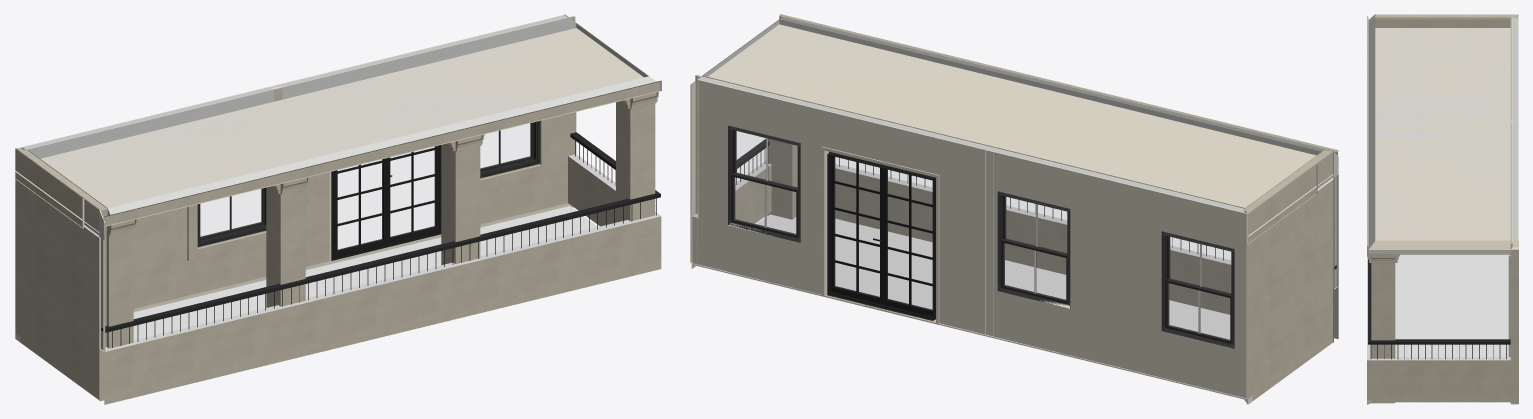
The model's file is front-balcony-54dfe916970c.glb.
The picture shows the model from 3 angles, left to right: view 1: azimuth 30°, elevation 25°; view 2: azimuth 150°, elevation 25°; view 3: azimuth 270°, elevation 25°; orthographic projection. The views are drawn at different scales.
Visible parts, largest first — view 1: front-balcony-0ac23dde8d2f7c54, front-balcony-b39baa29700ae605, front-balcony-f6a7cfeba332478b, front-balcony-62353aa10fc57f23, front-balcony-b0ade14315e4f1c3, front-balcony-dbd60ee5c3733ed6, front-balcony-24022e0f0167e9d7, front-balcony-42fce09358828e49, front-balcony-d70d42a253f78e60, front-balcony-771be2dfa886178e, front-balcony-41597b955207c1bc, front-balcony-f0f007964d256d2c (+9 smaller); view 2: front-balcony-b0ade14315e4f1c3, front-balcony-0ac23dde8d2f7c54, front-balcony-62353aa10fc57f23, front-balcony-b39baa29700ae605, front-balcony-dbd60ee5c3733ed6, front-balcony-60f0db96f832035a, front-balcony-b5cb73c07919def8, front-balcony-e1735639a83d20d7, front-balcony-42fce09358828e49, front-balcony-d70d42a253f78e60, front-balcony-f6a7cfeba332478b, front-balcony-4250aea146adcc53 (+6 smaller); view 3: front-balcony-0ac23dde8d2f7c54, front-balcony-f6a7cfeba332478b, front-balcony-dbd60ee5c3733ed6, front-balcony-dc9de07e6ba3b47a, front-balcony-41597b955207c1bc, front-balcony-b0ade14315e4f1c3, front-balcony-62353aa10fc57f23, front-balcony-adb6f49a6d2cbec3, front-balcony-8ce6cdf114d83750, front-balcony-24022e0f0167e9d7, front-balcony-baca582ee8224556, front-balcony-19165bb3a07bed8e (+3 smaller).
Boxes of the visible parts, x1,y1,x2,y2 form: front-balcony-0ac23dde8d2f7c54: (28, 18, 656, 215); front-balcony-b39baa29700ae605: (99, 215, 661, 404); front-balcony-f6a7cfeba332478b: (41, 28, 640, 207); front-balcony-62353aa10fc57f23: (15, 148, 107, 400); front-balcony-b0ade14315e4f1c3: (16, 15, 575, 308); front-balcony-dbd60ee5c3733ed6: (133, 206, 597, 340); front-balcony-24022e0f0167e9d7: (103, 80, 661, 226); front-balcony-42fce09358828e49: (386, 145, 440, 245); front-balcony-d70d42a253f78e60: (334, 158, 385, 258); front-balcony-771be2dfa886178e: (441, 144, 480, 265); front-balcony-41597b955207c1bc: (616, 101, 655, 222); front-balcony-f0f007964d256d2c: (266, 187, 305, 307); front-balcony-b0ade14315e4f1c3: (692, 75, 1247, 398); front-balcony-0ac23dde8d2f7c54: (702, 17, 1325, 208); front-balcony-62353aa10fc57f23: (1244, 149, 1332, 404); front-balcony-b39baa29700ae605: (835, 163, 1338, 342); front-balcony-dbd60ee5c3733ed6: (701, 214, 1244, 399); front-balcony-60f0db96f832035a: (1161, 231, 1234, 348); front-balcony-b5cb73c07919def8: (997, 191, 1070, 308); front-balcony-e1735639a83d20d7: (728, 125, 800, 242); front-balcony-42fce09358828e49: (831, 155, 883, 304); front-balcony-d70d42a253f78e60: (883, 168, 932, 316); front-balcony-f6a7cfeba332478b: (709, 24, 1252, 204); front-balcony-4250aea146adcc53: (821, 146, 939, 323); front-balcony-0ac23dde8d2f7c54: (1368, 17, 1510, 253); front-balcony-f6a7cfeba332478b: (1368, 28, 1510, 254); front-balcony-dbd60ee5c3733ed6: (1395, 254, 1510, 402); front-balcony-dc9de07e6ba3b47a: (1367, 357, 1510, 399); front-balcony-41597b955207c1bc: (1371, 264, 1395, 403); front-balcony-b0ade14315e4f1c3: (1510, 15, 1518, 399); front-balcony-62353aa10fc57f23: (1375, 15, 1518, 27); front-balcony-adb6f49a6d2cbec3: (1510, 248, 1518, 360); front-balcony-8ce6cdf114d83750: (1374, 339, 1510, 344); front-balcony-24022e0f0167e9d7: (1367, 16, 1368, 254); front-balcony-baca582ee8224556: (1368, 259, 1373, 344); front-balcony-19165bb3a07bed8e: (1508, 254, 1510, 356).
Bounding box in the file's own units: 9.14 × 3 × 2.55.
Materials: 20 (4 with a texture image).
